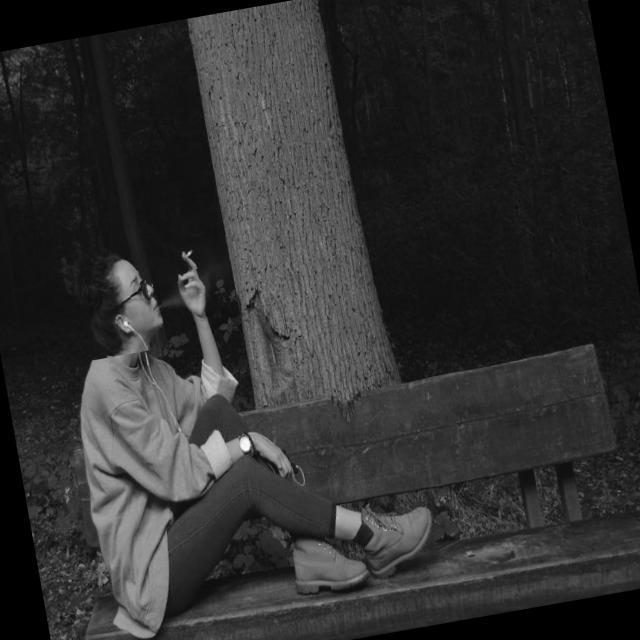cigarette: (175, 236, 203, 272)
